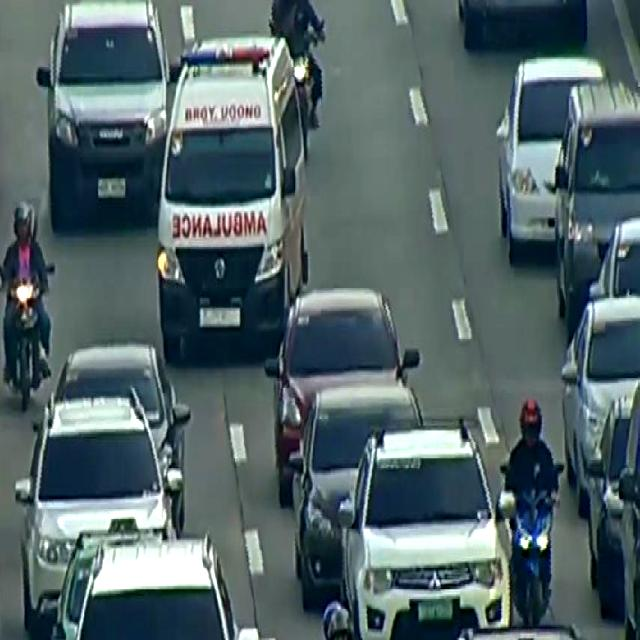emergency: (153, 34, 310, 374)
